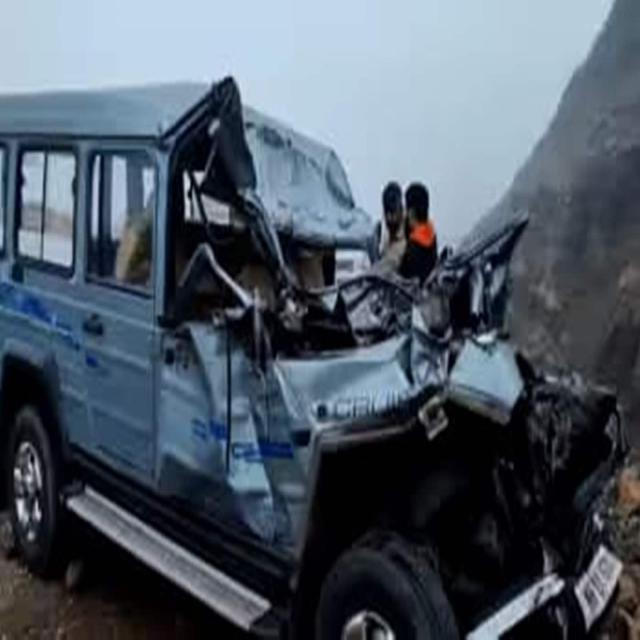accident: (0, 78, 625, 638)
